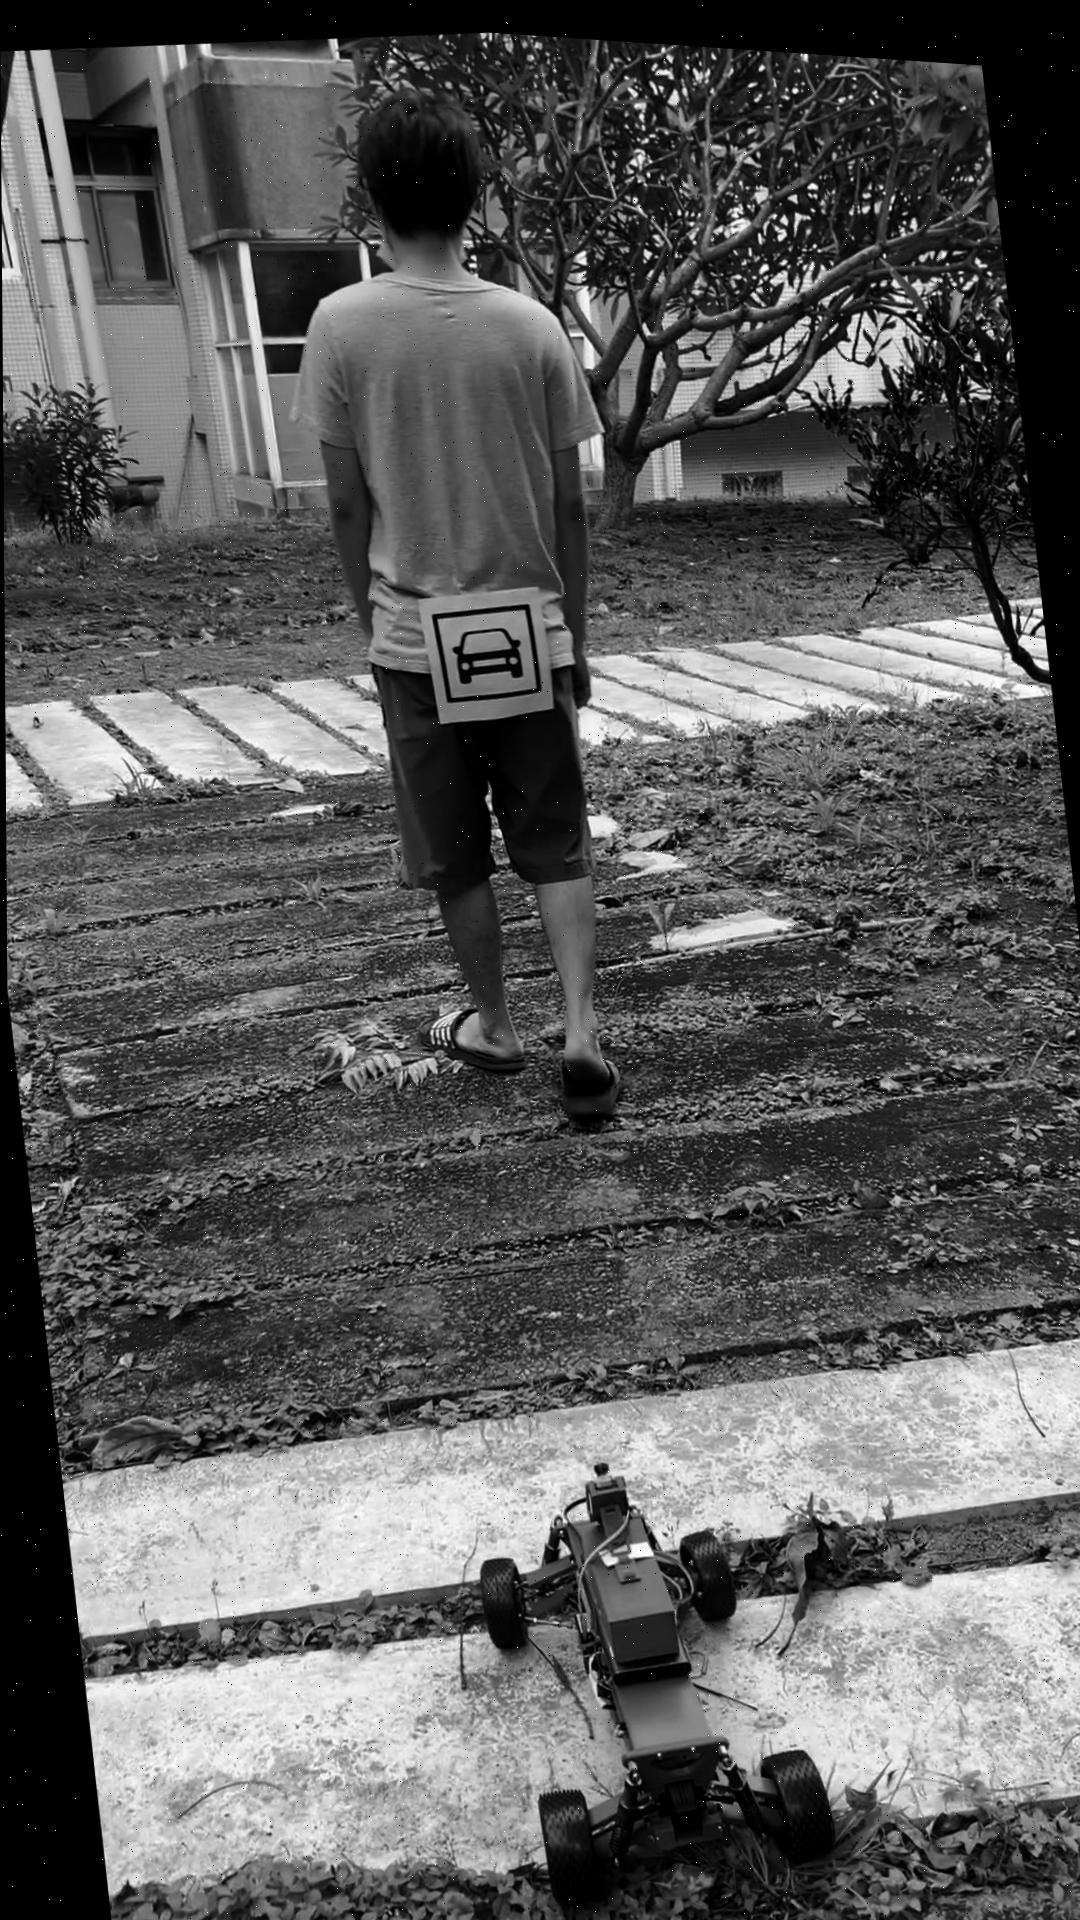car_img: (430, 591, 543, 703)
